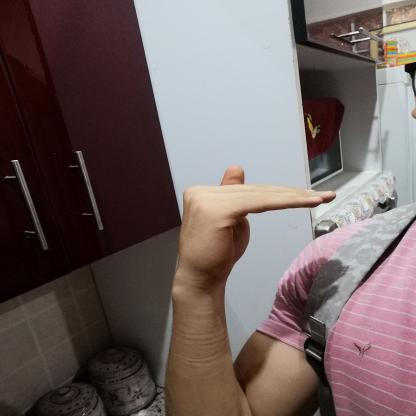KHAA: (160, 160, 350, 296)
